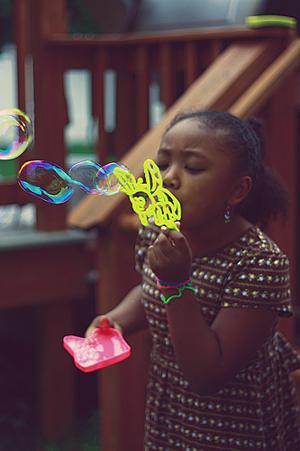person: (87, 108, 300, 449)
